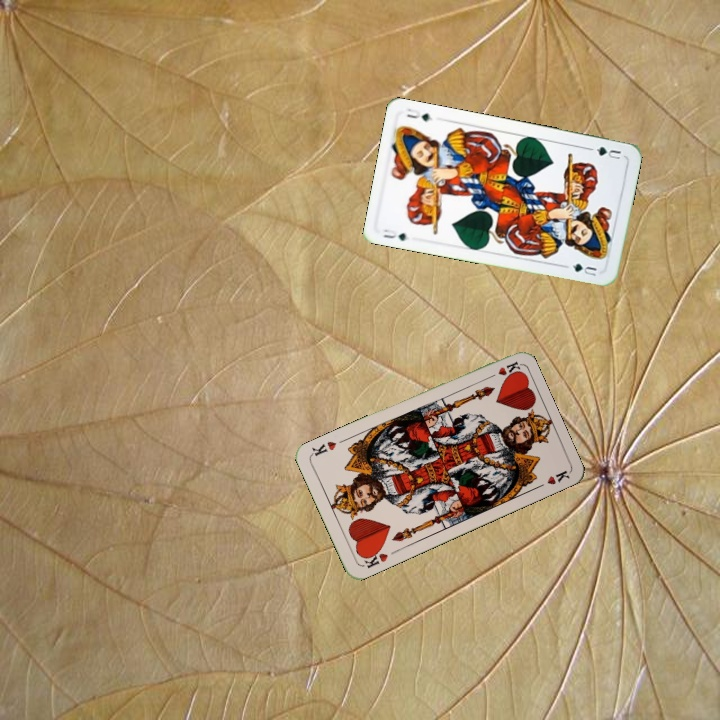GU: (592, 142, 623, 163), (378, 225, 409, 243)
HK: (482, 358, 522, 383), (358, 545, 391, 571)
